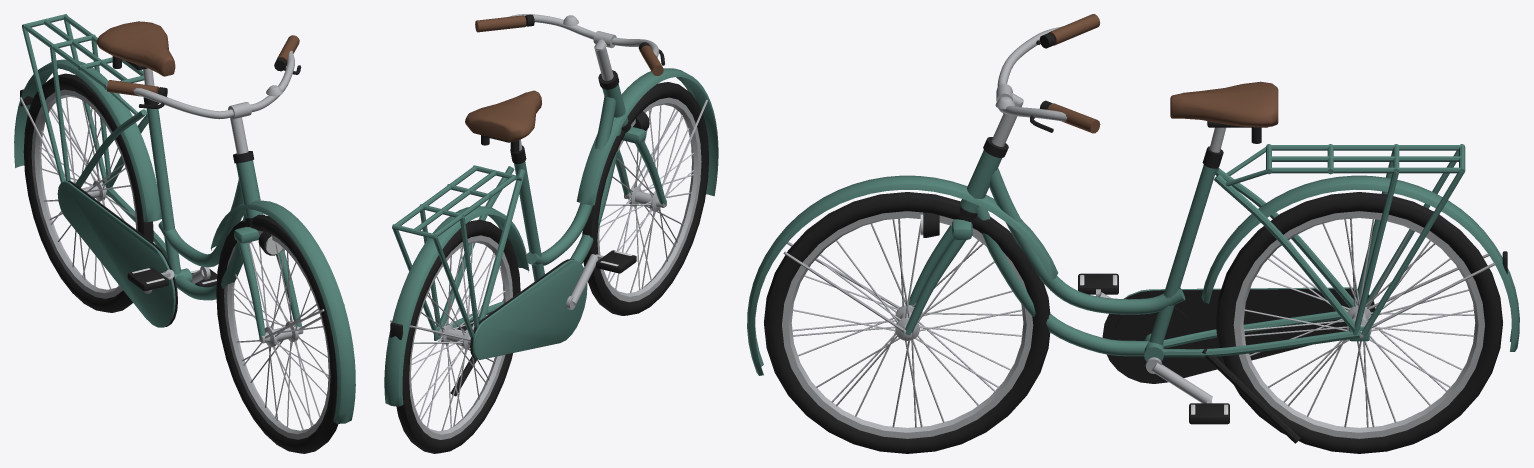
File: Bicycle.fbx
The picture shows the model from 3 angles, left to right: view 1: azimuth 30°, elevation 25°; view 2: azimuth 150°, elevation 25°; view 3: azimuth 270°, elevation 25°; orthographic projection. The views are drawn at different scales.
Visible parts, largest first — view 1: Bicycle_Mesh; view 2: Bicycle_Mesh; view 3: Bicycle_Mesh.
Boxes of the visible parts, <box> form: Bicycle_Mesh: <box>14,14,355,453</box>; Bicycle_Mesh: <box>384,14,718,453</box>; Bicycle_Mesh: <box>747,14,1519,453</box>.
Bounding box in the file's own units: 0.6364 × 1.04 × 1.88.
